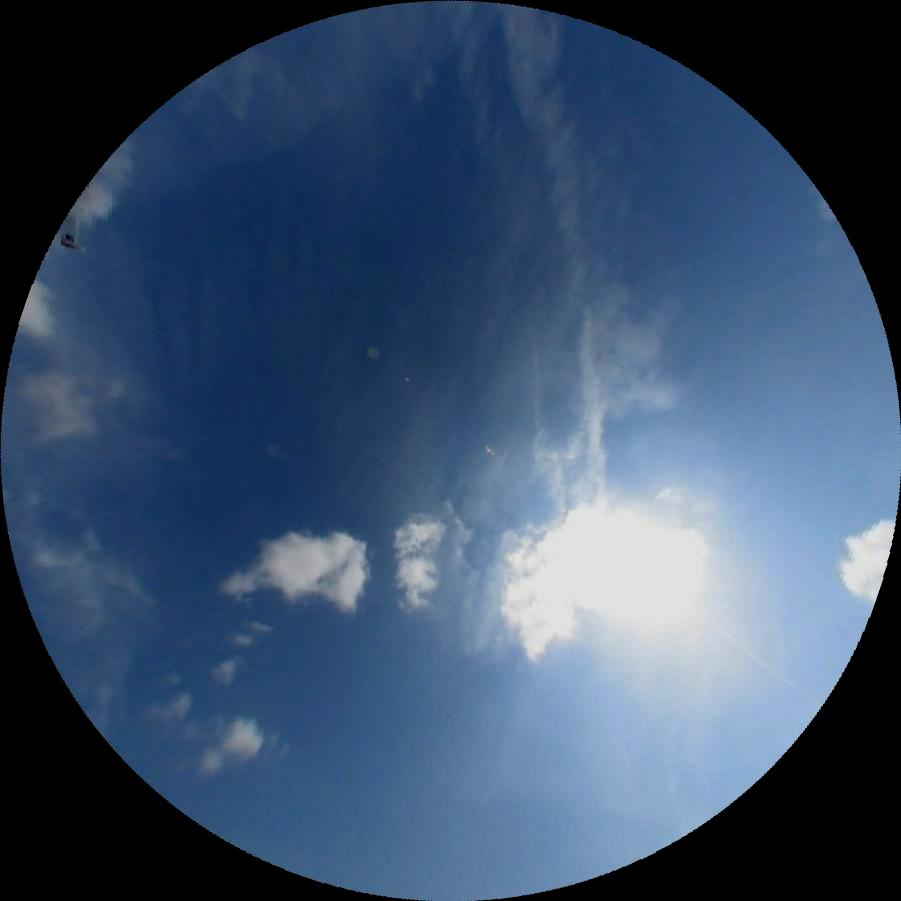contrail veryold: (508, 341, 571, 515)
parasite: (700, 614, 824, 706)
sun: (581, 511, 716, 639)
